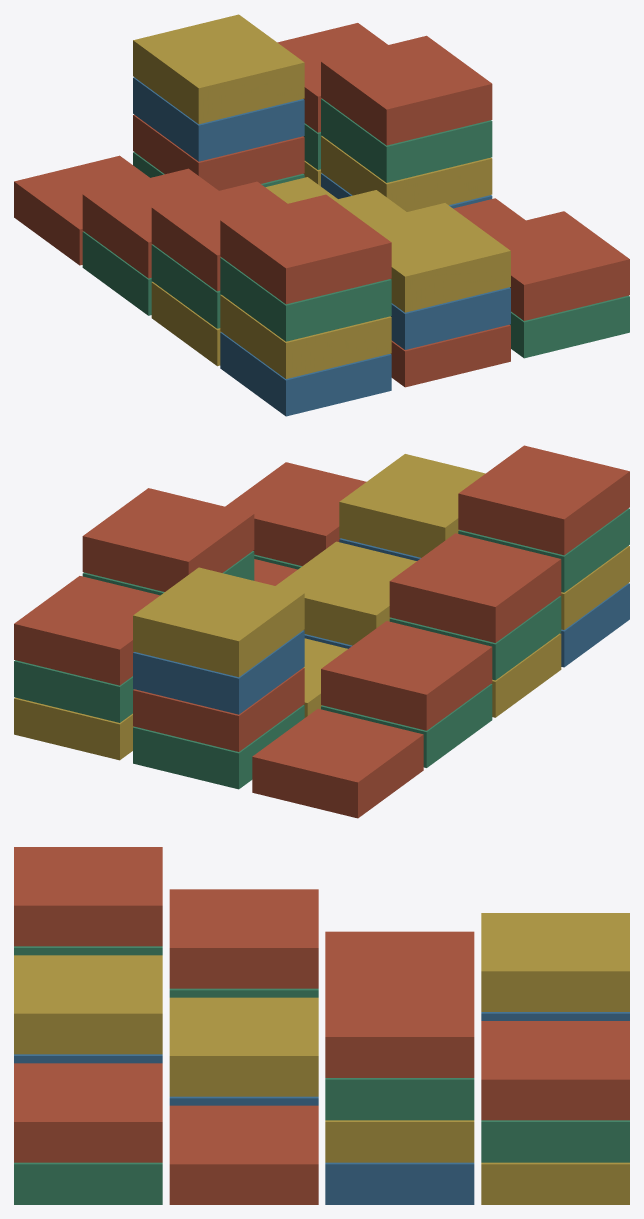
Rendered from containers.glb.
3 renders of one model, top to bottom at view 1: azimuth 30°, elevation 25°; view 2: azimuth 150°, elevation 25°; view 3: azimuth 270°, elevation 25°, orthographic. The views are drawn at different scales.
Visible parts, largest first — view 1: Containers; view 2: Containers; view 3: Containers.
Boxes of the visible parts, x1,y1,x2,y2 form: Containers: [14, 14, 629, 416]; Containers: [14, 445, 629, 818]; Containers: [14, 847, 629, 1204].
Bounding box in the file's own units: 26 × 10.7 × 35.6.
